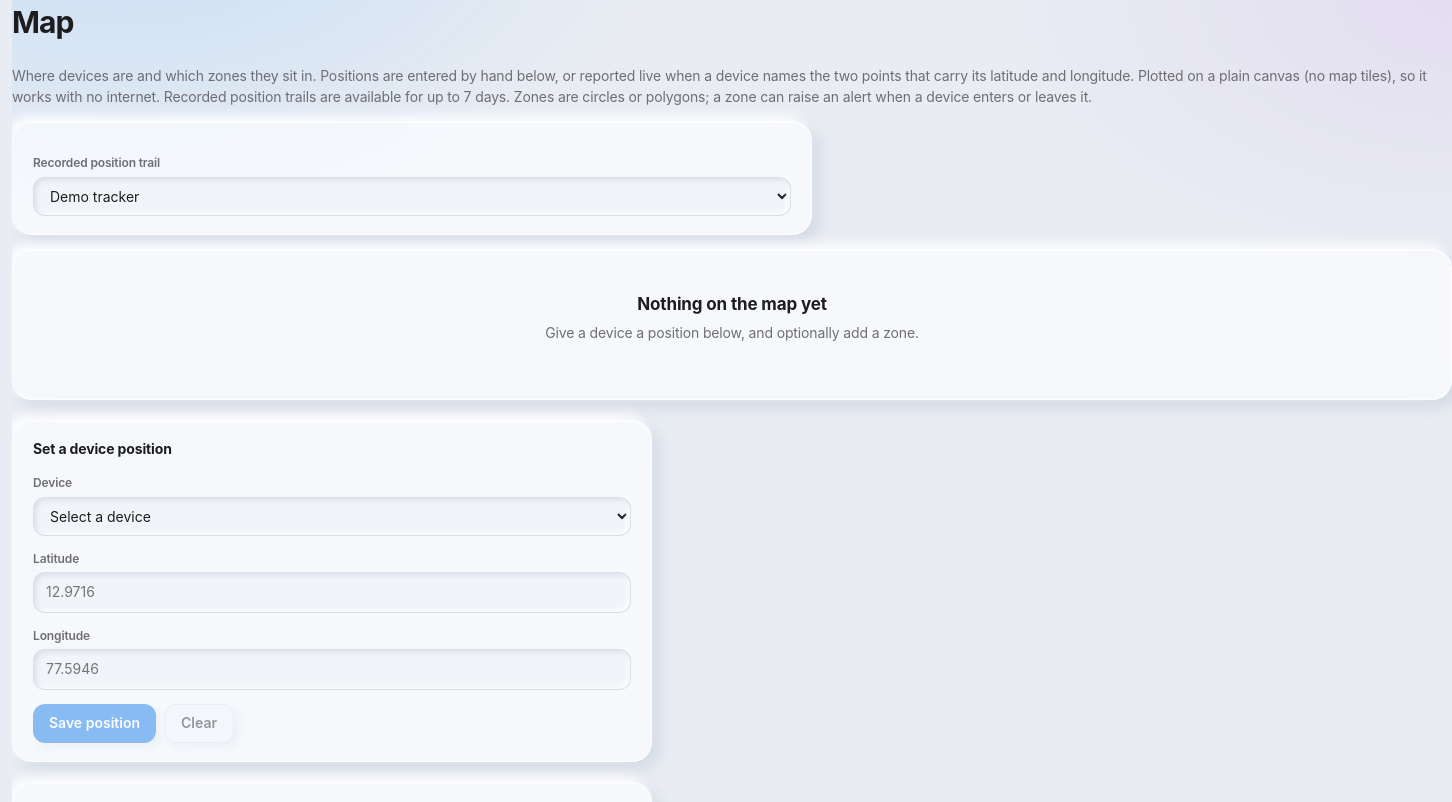
Test case: trail selector is outside table; window, refresh, empty and failure states are explicit
Later steps or results of the test are not shown.
Select "Demo tracker" in the dropdown with id "mt-device" at point(412, 196), box 33,177 -> 791,216
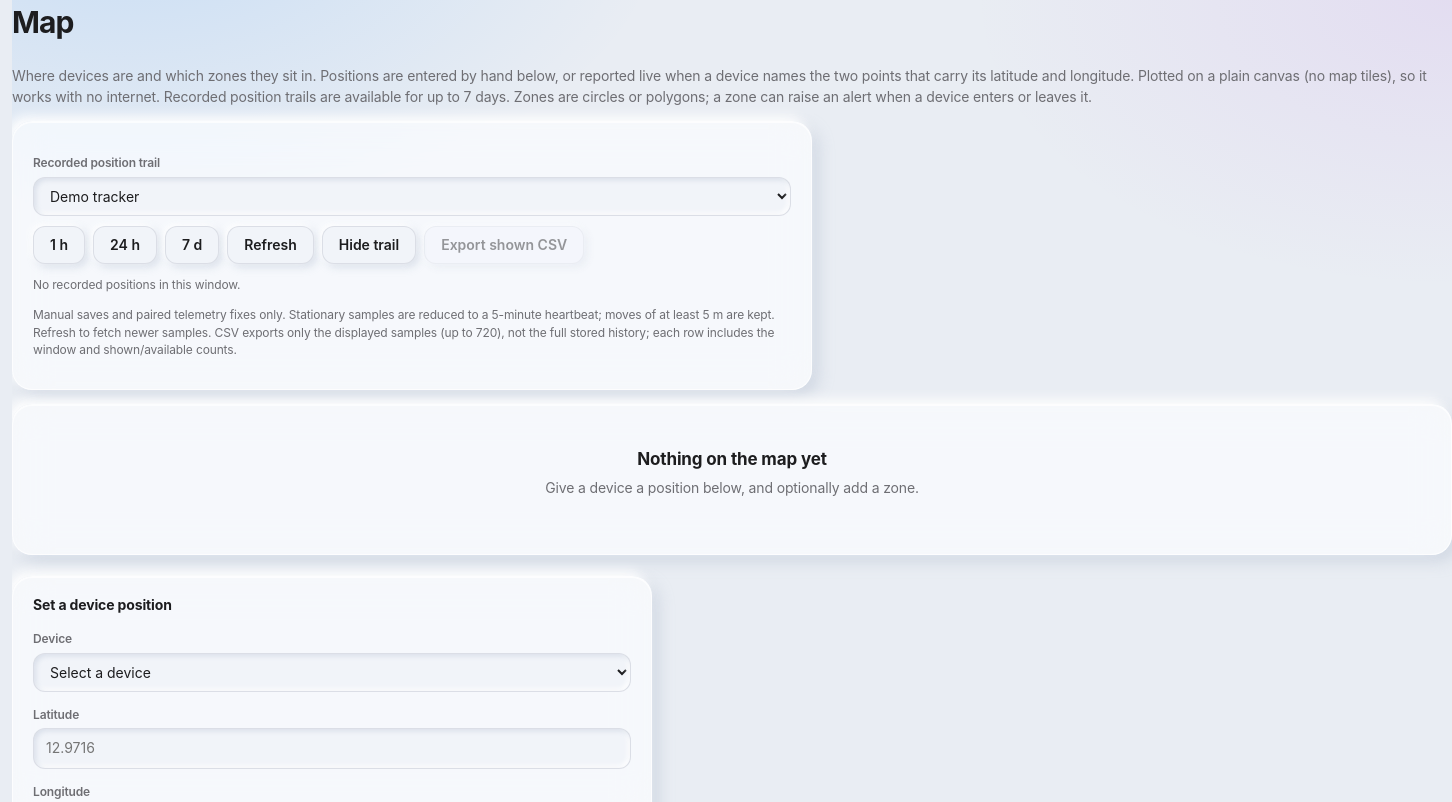
Expected: the text "No recorded positions in this window." is shown, 33,278 -> 240,292
Click the button "7 d" at point(192, 245), box 165,226 -> 219,264
Click the button "Refresh" at point(271, 245), box 227,226 -> 314,264
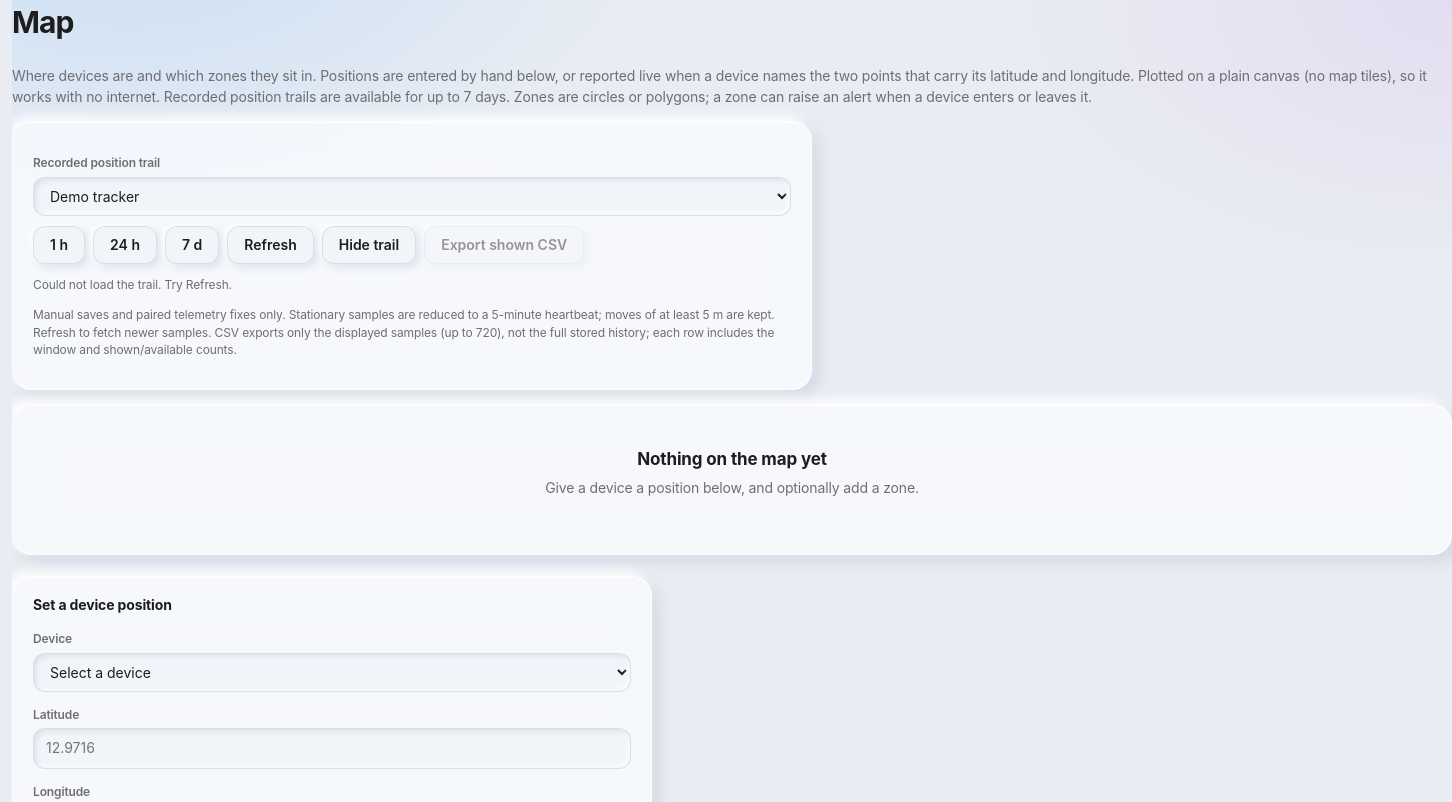
Expected: the text "Could not load the trail" is shown, 33,278 -> 232,292
